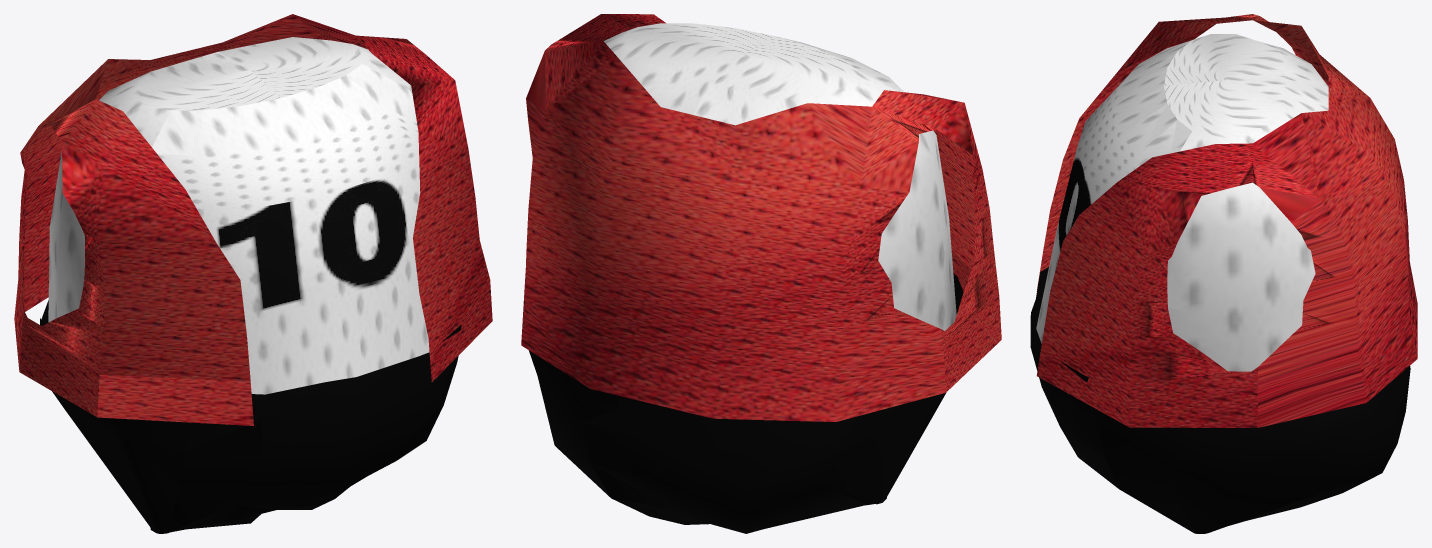
The model's file is torso.obj.
3 renders of one model, left to right at view 1: azimuth 30°, elevation 25°; view 2: azimuth 150°, elevation 25°; view 3: azimuth 270°, elevation 25°, orthographic. The views are drawn at different scales.
Visible parts, largest first — view 1: torso:Mesh; view 2: torso:Mesh; view 3: torso:Mesh.
Part boxes in pixels (bbox=[...]): torso:Mesh: bbox=[14, 14, 492, 533]; torso:Mesh: bbox=[521, 14, 1001, 533]; torso:Mesh: bbox=[1030, 14, 1417, 533].
Size of the model in its own units: 2.41 by 2.47 by 2.04.
3 materials, 3 textured.
